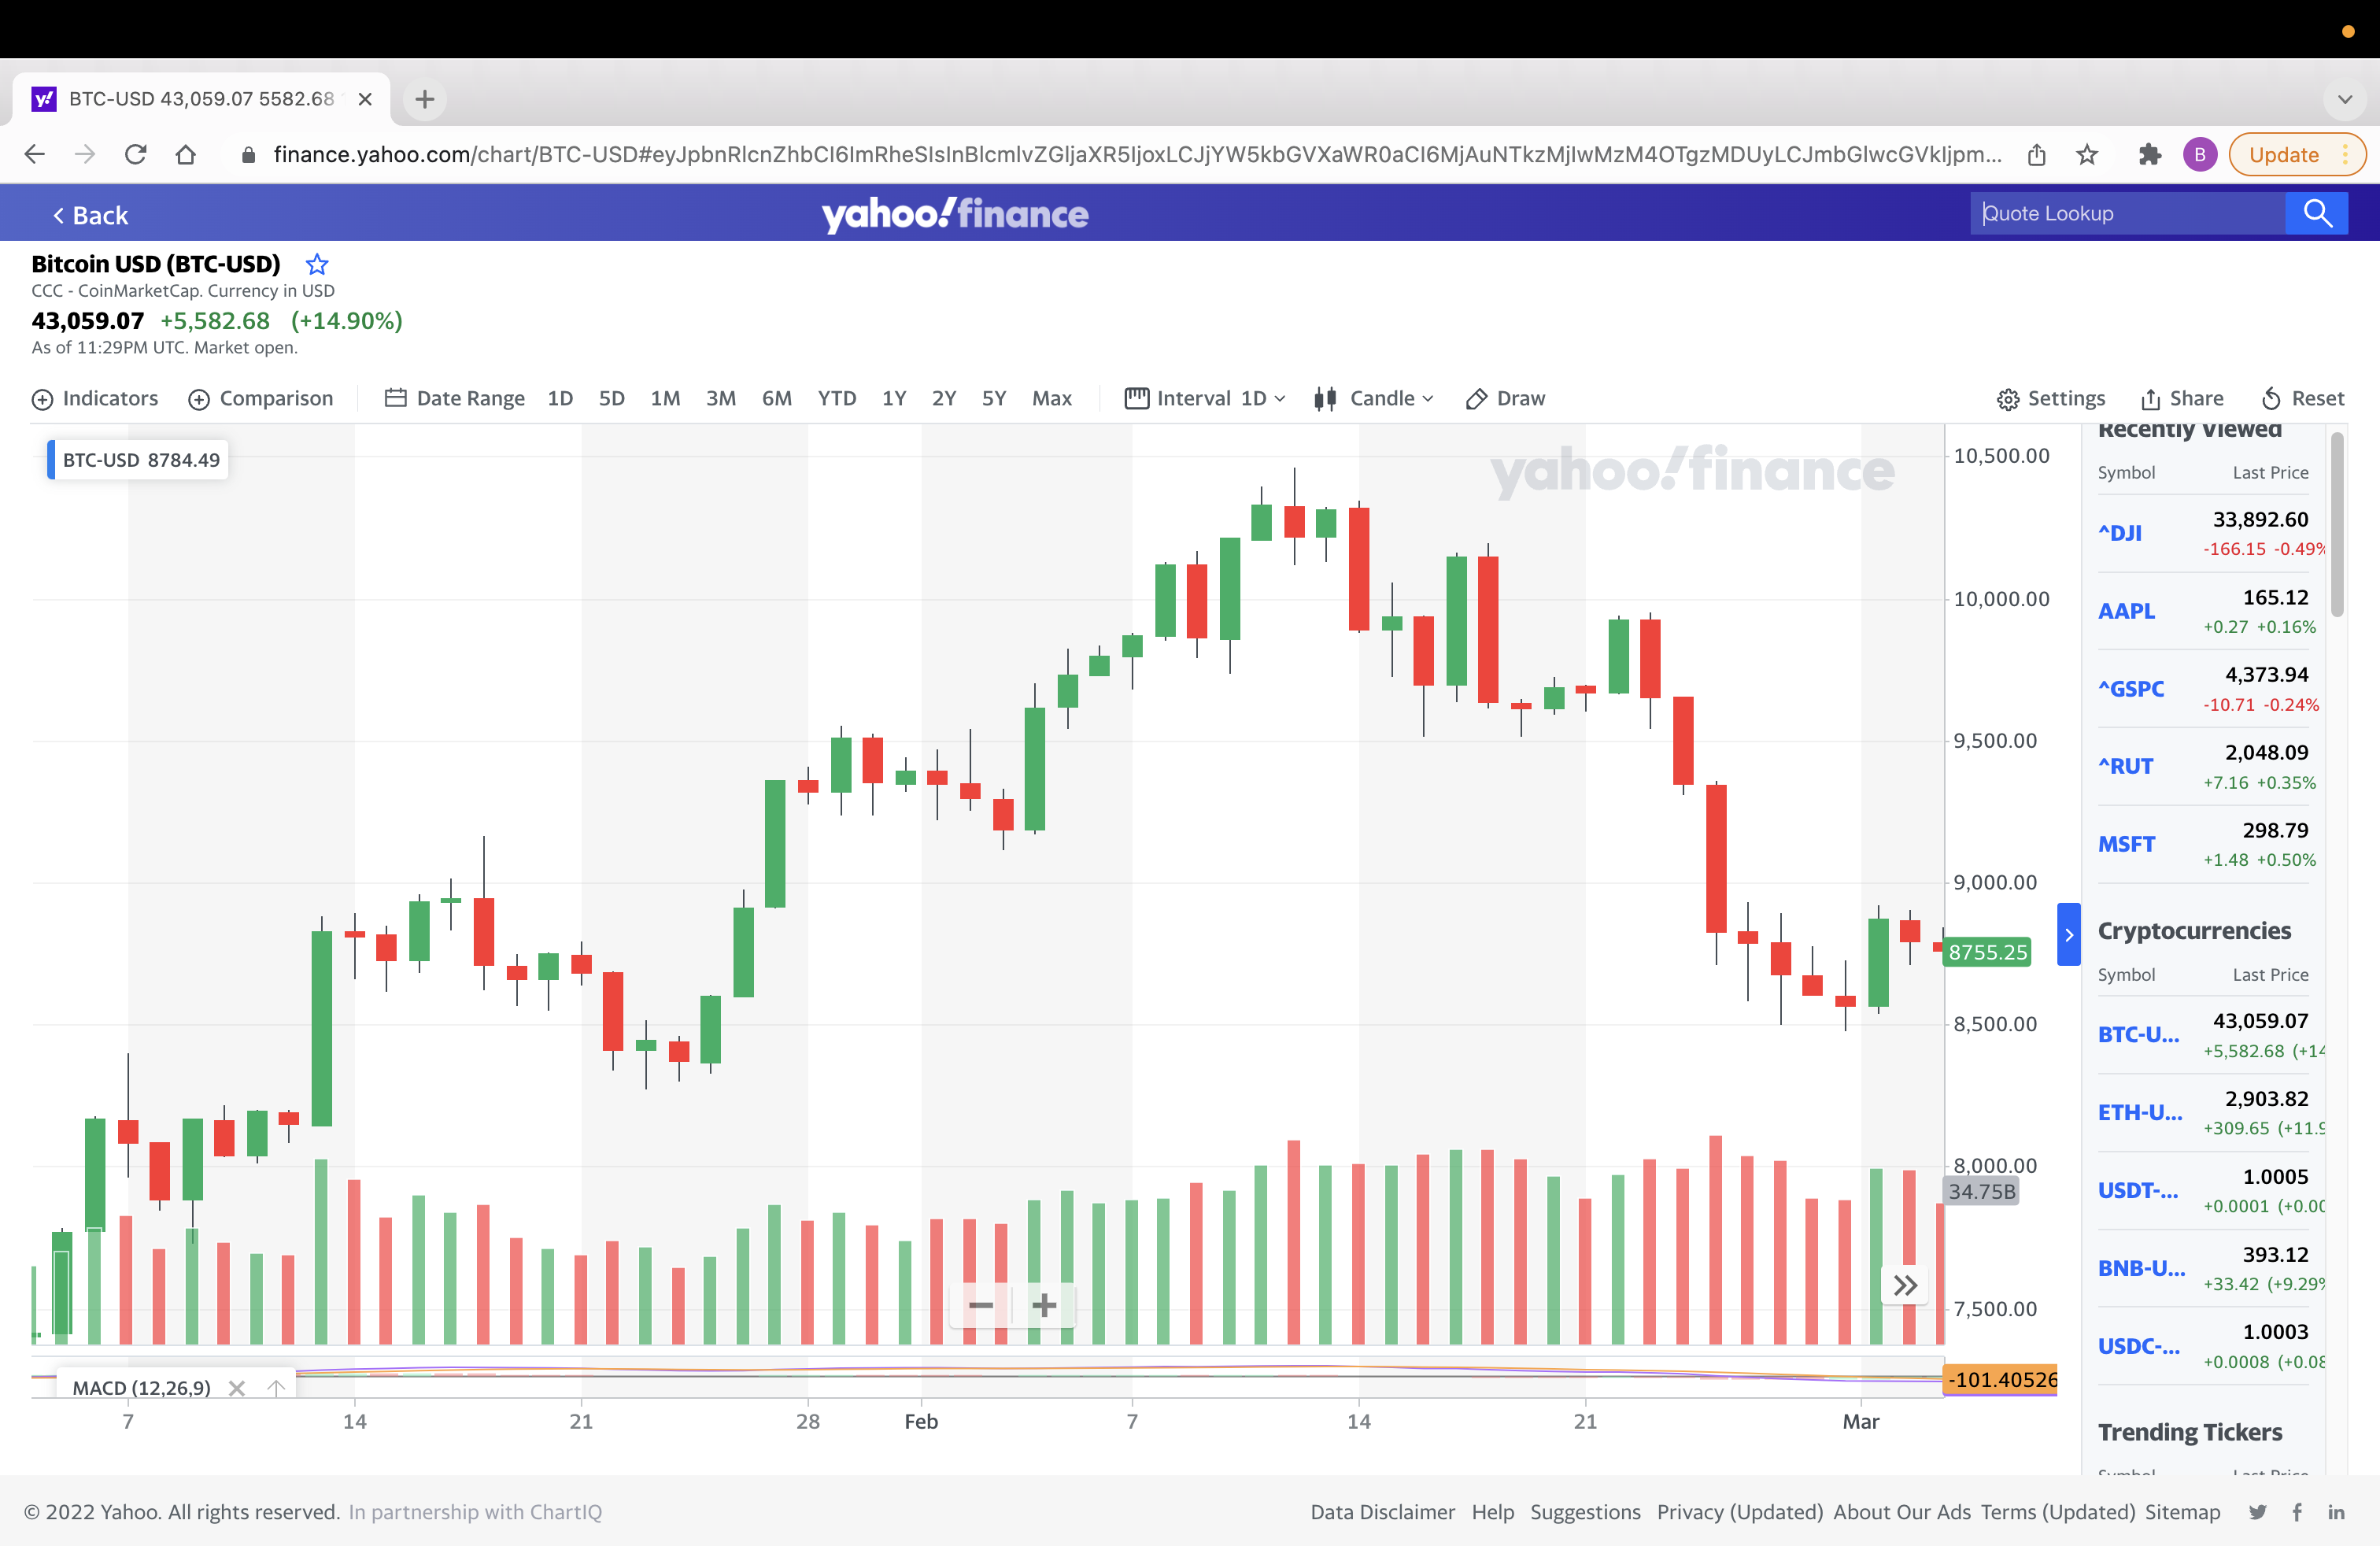Three Black Crows: (1582, 375, 1683, 753)
Three White Soldiers: (647, 312, 744, 621)
